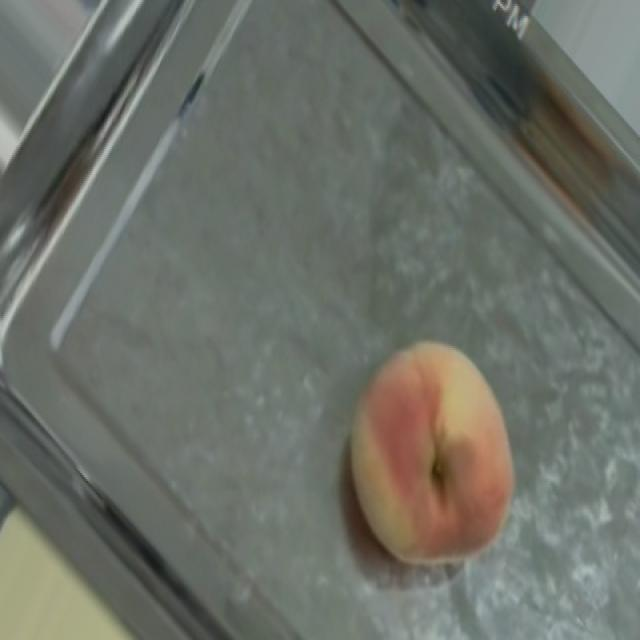Fruit: (311, 308, 544, 598), (0, 477, 187, 640)
